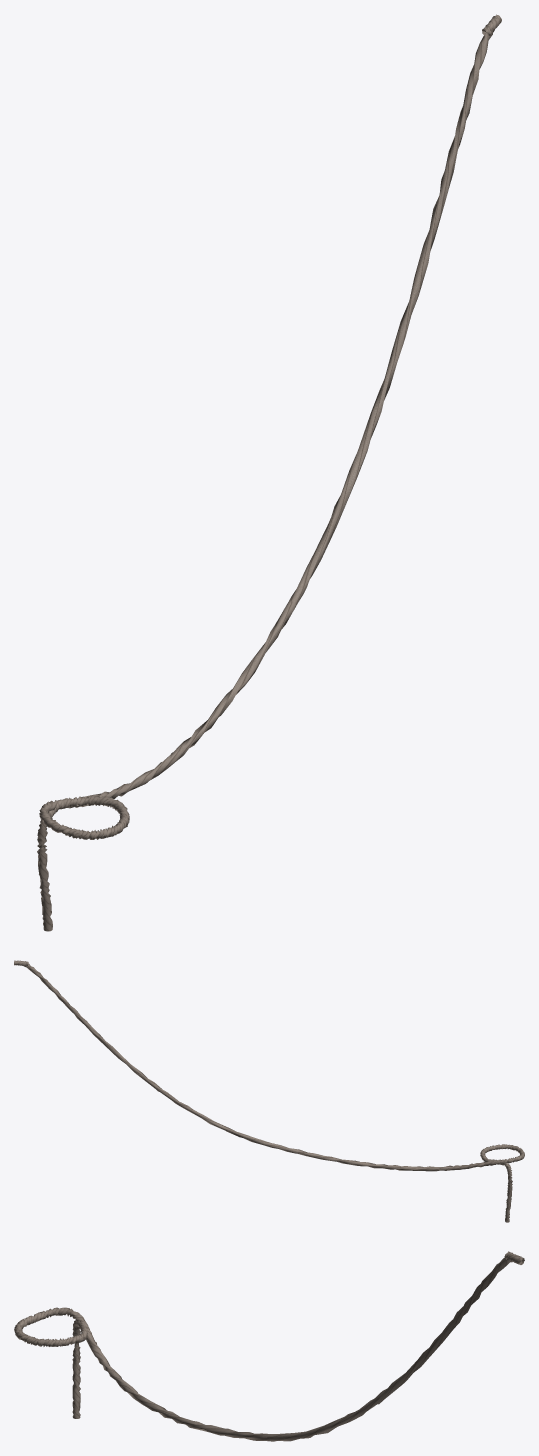
File: SM_RopeSplineMesh_Splines_33.fbx
The picture shows the model from 3 angles, top to bottom: view 1: azimuth 30°, elevation 25°; view 2: azimuth 150°, elevation 25°; view 3: azimuth 270°, elevation 25°; orthographic projection. The views are drawn at different scales.
Parts seen in each view (by area): view 1: SM_RopeSplineMesh_Splines_33; view 2: SM_RopeSplineMesh_Splines_33; view 3: SM_RopeSplineMesh_Splines_33.
Boxes of the visible parts, x1,y1,x2,y2 form: SM_RopeSplineMesh_Splines_33: (37,14,501,931); SM_RopeSplineMesh_Splines_33: (14,960,524,1222); SM_RopeSplineMesh_Splines_33: (14,1251,524,1441).
Size of the model in its own units: 208 by 151 by 147.
